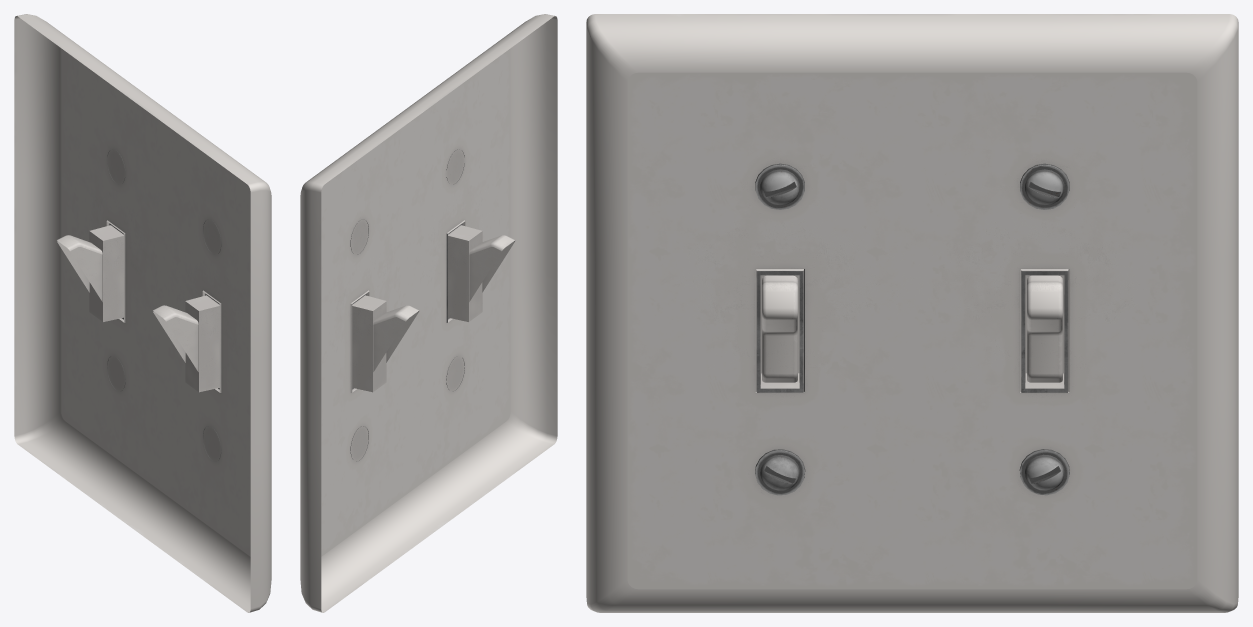
File: B1M1_Switch_GEO.fbx
3 renders of one model, left to right at view 1: azimuth 30°, elevation 25°; view 2: azimuth 150°, elevation 25°; view 3: azimuth 270°, elevation 25°, orthographic. The views are drawn at different scales.
Visible parts, largest first — view 1: B1M1_Switch; view 2: B1M1_Switch; view 3: B1M1_Switch.
Boxes of the visible parts, x1=… form: B1M1_Switch: x1=14, y1=14, x2=271, y2=612; B1M1_Switch: x1=300, y1=14, x2=557, y2=612; B1M1_Switch: x1=586, y1=14, x2=1238, y2=612.
Bounding box in the file's own units: 2.91 × 12.52 × 12.52.
